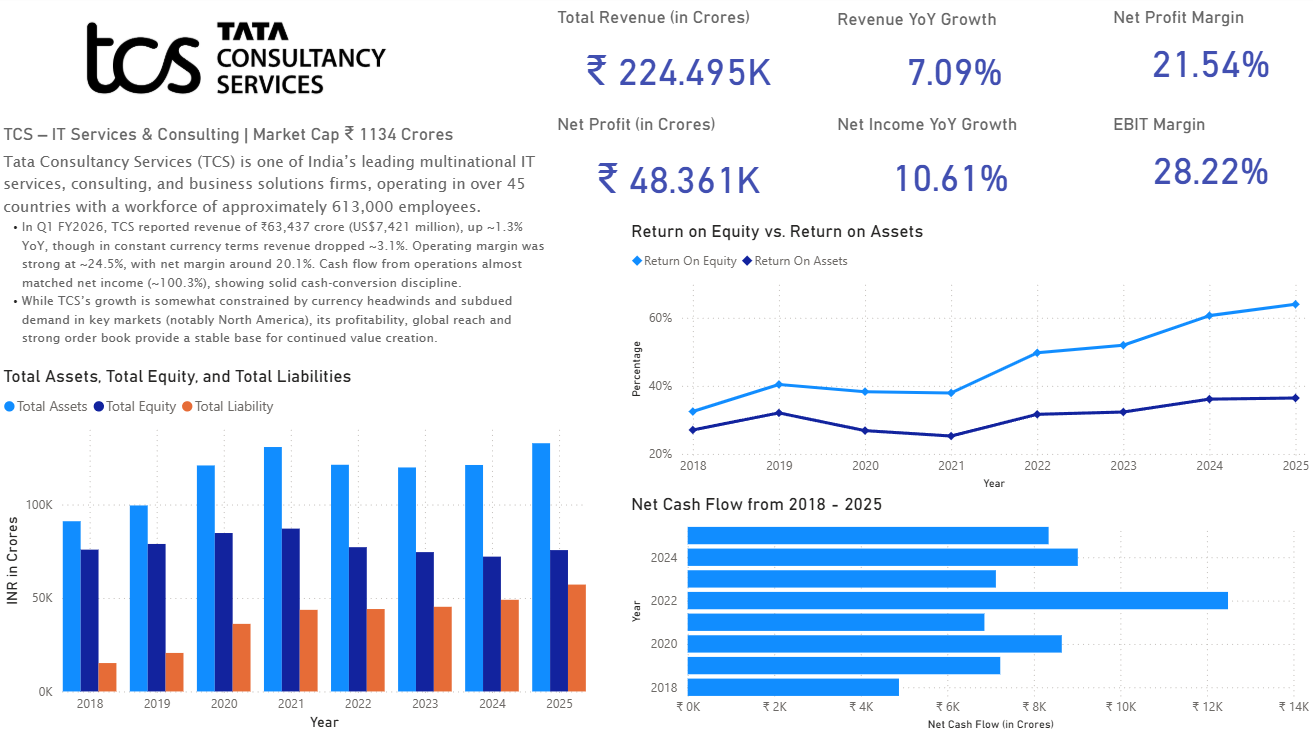

The dashboard page shown, as its layout file describes it:
{"tool":"powerbi","page":{"name":"Company Overview","canvas":[1280,720],"ordinal":0},"visuals":[{"type":"textbox","box":[501.9,37.9,355,47.7],"z":0},{"type":"image","box":[0,7.8,464,105],"z":1000},{"type":"textbox","box":[0,117.7,464,34],"z":2000},{"type":"clusteredColumnChart","title":"Total Assets, Total Equity, and Total Liabilities","fields":{"Category":["BS.Year"],"Y":["Sum(BS.Total Assets)","Sum(BS.Total Equity)","Sum(BS.Total Liability)"]},"box":[0,359.9,576.8,359.9],"z":3000},{"type":"lineChart","title":"Return on Equity vs. Return on Assets","fields":{"Category":["BS.Year"],"Y":["Sum(BS.ROE)","Sum(BS.ROA)"]},"box":[610.8,218.8,669.2,265.5],"z":4000},{"type":"kpi","title":"Total Revenue (in Crores)","fields":{"Indicator":["P&L.Latest Year Revenue"],"TrendLine":["P&L.Year"]},"box":[538.8,10.7,246.1,102.1],"z":5000},{"type":"kpi","title":"Revenue YoY Growth","fields":{"Indicator":["Sum(P&L.Revenue YoY Growth)"],"TrendLine":["P&L.Year"]},"box":[811.2,12.6,238.3,102.1],"z":6000},{"type":"kpi","title":"Net Profit (in Crores)","fields":{"Indicator":["P&L.Latest Year Net Profit"],"TrendLine":["P&L.Year"]},"box":[538.8,114.8,246.1,104.1],"z":7000},{"type":"kpi","title":"Net Income YoY Growth","fields":{"Indicator":["Sum(P&L.Net Income YoY Growth)"],"TrendLine":["P&L.Year"]},"box":[811.2,114.8,230.5,104.1],"z":8000},{"type":"kpi","title":"EBIT Margin","fields":{"Indicator":["Sum(P&L.EBITMargin)"],"TrendLine":["P&L.Year"]},"box":[1079.6,114.8,200.4,89.5],"z":9000},{"type":"kpi","title":"Net Profit Margin ","fields":{"Indicator":["Sum(P&L.NetProfitMargin)"],"TrendLine":["P&L.Year"]},"box":[1079.6,10.7,200.4,89.5],"z":10000},{"type":"barChart","title":"Net Cash Flow from 2018 - 2025","fields":{"Y":["Sum(CF.Net Cash Flow)"],"Category":["CF.Year"]},"box":[610.8,484.4,669.2,234.4],"z":11000},{"type":"textbox","box":[0,144.9,538.8,215],"z":12000}]}

Visuals, with their boxes in screenshot pixels (x1, y1, x2, y2), scaled from the page's 1280x720 canvas onto the 1313x732 screenshot:
textbox: 515, 39, 879, 87
image: 0, 8, 476, 115
textbox: 0, 120, 476, 154
"Total Assets, Total Equity, and Total Liabilities" clusteredColumnChart: 0, 366, 592, 731
"Return on Equity vs. Return on Assets" lineChart: 627, 222, 1312, 492
"Total Revenue (in Crores)" kpi: 553, 11, 805, 115
"Revenue YoY Growth" kpi: 832, 13, 1077, 117
"Net Profit (in Crores)" kpi: 553, 117, 805, 223
"Net Income YoY Growth" kpi: 832, 117, 1069, 223
"EBIT Margin" kpi: 1107, 117, 1312, 208
"Net Profit Margin " kpi: 1107, 11, 1312, 102
"Net Cash Flow from 2018 - 2025" barChart: 627, 492, 1312, 731
textbox: 0, 147, 553, 366
